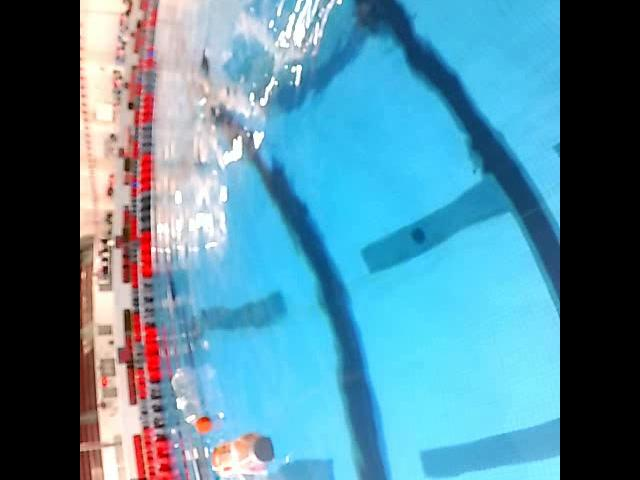Bottle: (207, 428, 279, 480), (165, 362, 215, 435)
